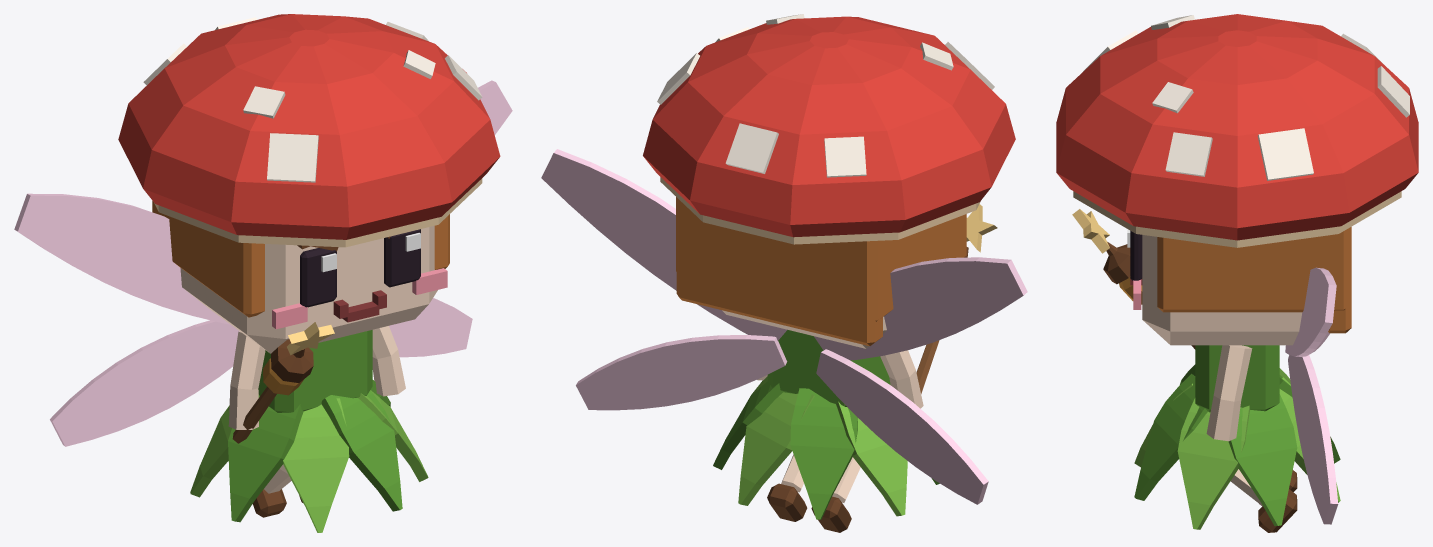
The model's file is w2_secretenemy.fbx.
The picture shows the model from 3 angles, left to right: view 1: azimuth 30°, elevation 25°; view 2: azimuth 150°, elevation 25°; view 3: azimuth 270°, elevation 25°; orthographic projection. The views are drawn at different scales.
Visible parts, largest first — view 1: Fairy.Cap, Fairy.RightWing, Fairy.Head, Fairy.DressDark, Fairy.Dress, Fairy.Hair, Fairy.Spots, Fairy.Torso, Fairy.LeftWing, Fairy.Eyes, Fairy.Gills, Fairy.RightArm (+8 smaller); view 2: Fairy.Cap, Fairy.Hair, Fairy.LeftWing, Fairy.RightWing, Fairy.Dress, Fairy.DressDark, Fairy.Spots, Fairy.Torso, Fairy.Gills, Fairy.RightArm, Fairy.LeftShoe, Fairy.RightShoe (+3 smaller); view 3: Fairy.Cap, Fairy.Hair, Fairy.DressDark, Fairy.LeftWing, Fairy.Spots, Fairy.Head, Fairy.Dress, Fairy.Torso, Fairy.LeftArm, Fairy.Gills, Fairy.AcornCap, Fairy.Star (+2 smaller).
Boxes of the visible parts, x1,y1,x2,y2 form: Fairy.Cap: [118, 14, 500, 239]; Fairy.RightWing: [14, 193, 239, 446]; Fairy.Head: [180, 226, 437, 353]; Fairy.DressDark: [227, 380, 402, 522]; Fairy.Dress: [190, 390, 428, 532]; Fairy.Hair: [152, 201, 449, 317]; Fairy.Spots: [143, 17, 482, 182]; Fairy.Torso: [258, 330, 372, 412]; Fairy.LeftWing: [389, 80, 512, 357]; Fairy.Eyes: [300, 229, 420, 307]; Fairy.Gills: [154, 178, 482, 247]; Fairy.RightArm: [228, 331, 265, 429]; Fairy.Cap: [643, 16, 1015, 237]; Fairy.Hair: [676, 197, 966, 346]; Fairy.LeftWing: [541, 149, 787, 410]; Fairy.RightWing: [814, 257, 1027, 504]; Fairy.Dress: [738, 377, 907, 516]; Fairy.DressDark: [713, 376, 939, 519]; Fairy.Spots: [657, 14, 994, 177]; Fairy.Torso: [767, 330, 890, 407]; Fairy.Gills: [660, 177, 980, 244]; Fairy.RightArm: [880, 350, 923, 408]; Fairy.LeftShoe: [767, 483, 807, 521]; Fairy.RightShoe: [811, 496, 851, 532]; Fairy.Cap: [1056, 14, 1418, 240]; Fairy.Hair: [1157, 227, 1351, 333]; Fairy.DressDark: [1134, 364, 1340, 526]; Fairy.LeftWing: [1285, 267, 1338, 524]; Fairy.Spots: [1083, 15, 1409, 180]; Fairy.Head: [1142, 235, 1302, 345]; Fairy.Dress: [1134, 368, 1340, 529]; Fairy.Torso: [1195, 345, 1279, 412]; Fairy.LeftArm: [1206, 345, 1252, 441]; Fairy.Gills: [1073, 191, 1401, 247]; Fairy.AcornCap: [1103, 242, 1130, 284]; Fairy.Star: [1072, 209, 1109, 253].
Size of the model in its own units: 2.83 by 2.64 by 1.81.
